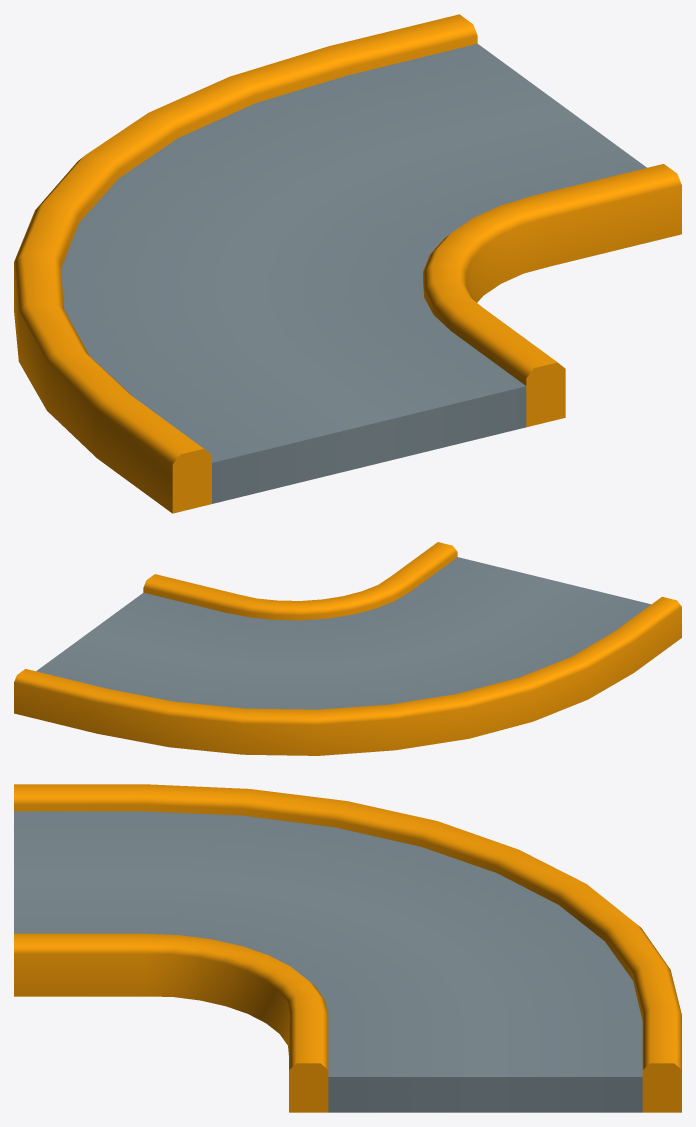
Rendered from platform_010.fbx.
3 views of the same model, one above another, from view 1: azimuth 30°, elevation 25°; view 2: azimuth 150°, elevation 25°; view 3: azimuth 270°, elevation 25° (orthographic). The views are drawn at different scales.
Visible parts, largest first — view 1: platform_010; view 2: platform_010; view 3: platform_010.
Boxes of the visible parts, <box> form: platform_010: <box>14,14,681,513</box>; platform_010: <box>14,542,681,755</box>; platform_010: <box>14,784,681,1112</box>.
Size of the model in its own units: 850 by 850 by 69.59.
